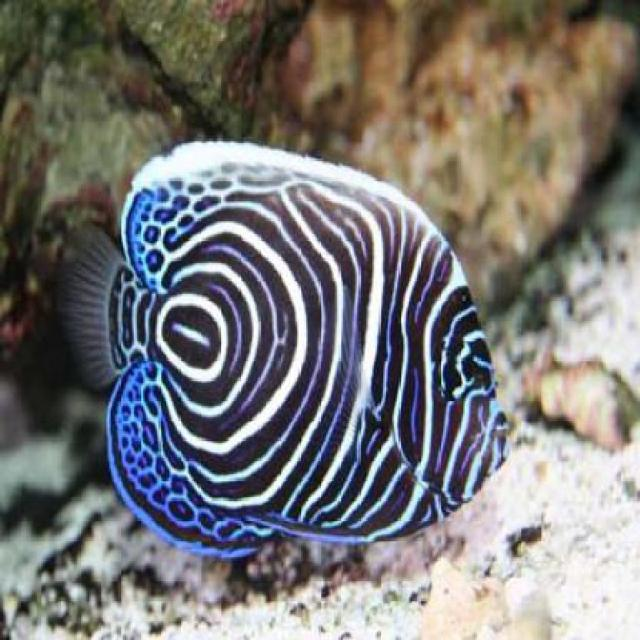AngelFish: (78, 141, 509, 554)
